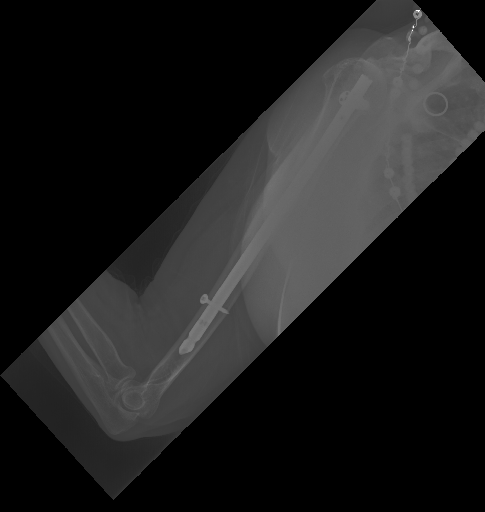implant: (166, 280, 237, 360), (340, 64, 385, 130), (400, 5, 427, 64), (417, 75, 450, 118)
